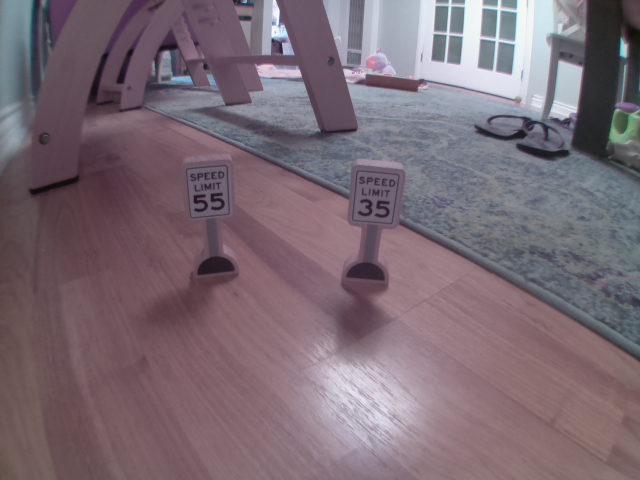Speed Limit 35: (349, 166, 399, 226)
Speed Limit 55: (181, 164, 232, 221)
